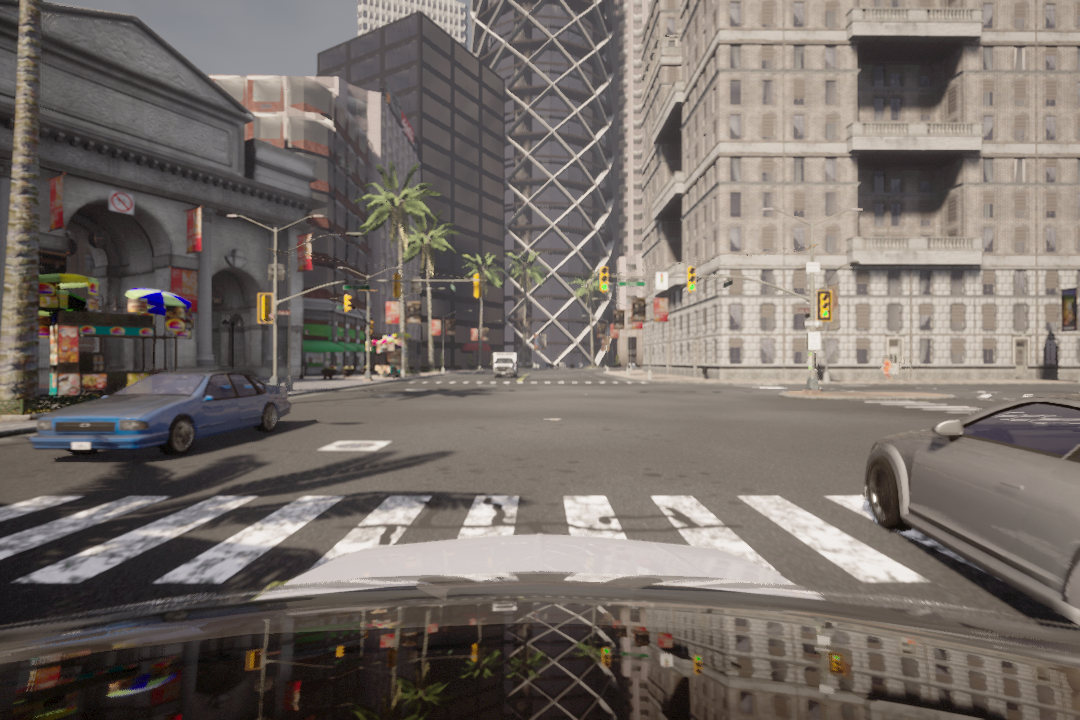TrafficLight: (818, 291, 833, 321), (599, 267, 611, 294), (685, 267, 697, 294)
TrafficSign: (108, 190, 135, 215)
walkside: (2, 494, 1009, 596), (405, 378, 652, 389)
